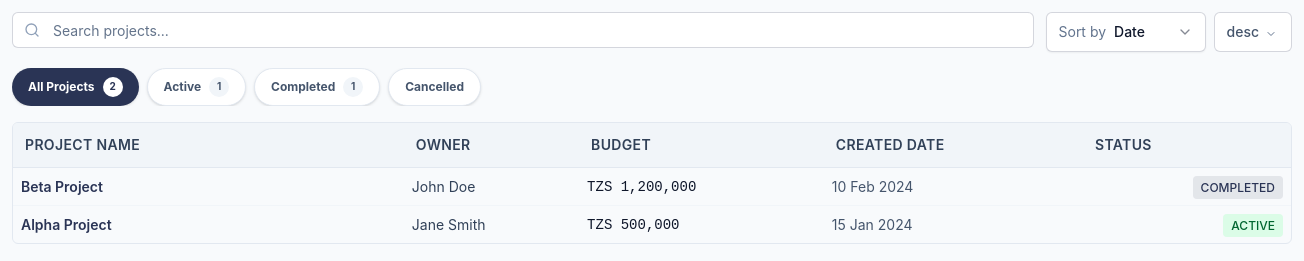
Test: ProjectList › filters projects by search query
Expected: the text "Alpha Project" is shown, top-left (21, 216), bottom-right (112, 232)
Type "Beta" into the field with placeholder "Search projects...".
click(523, 30); type("Beta")  # box top-left (12, 12), bottom-right (1034, 48)
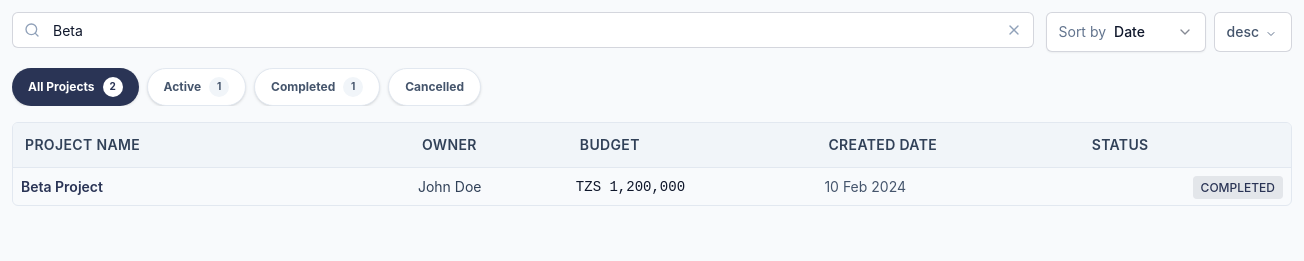
Expected: the text "Beta Project" is shown, top-left (21, 178), bottom-right (103, 194)
Now the text "Alpha Project" is not shown
